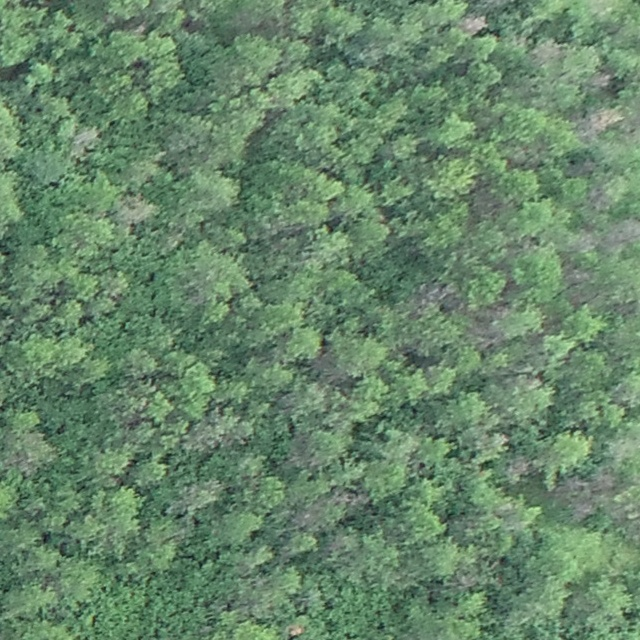unhealthy: (556, 470, 619, 517), (182, 410, 241, 450), (406, 280, 458, 315), (172, 479, 224, 511), (578, 105, 621, 138), (604, 215, 640, 249), (528, 37, 564, 66), (330, 487, 370, 511), (505, 456, 534, 479), (459, 13, 488, 36), (589, 69, 614, 91)
